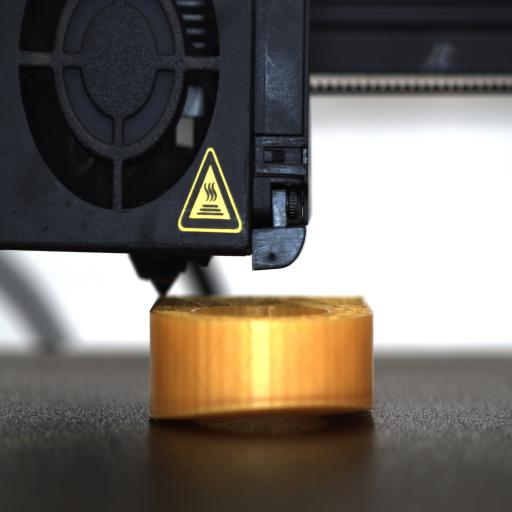warp: (152, 402, 362, 425)
